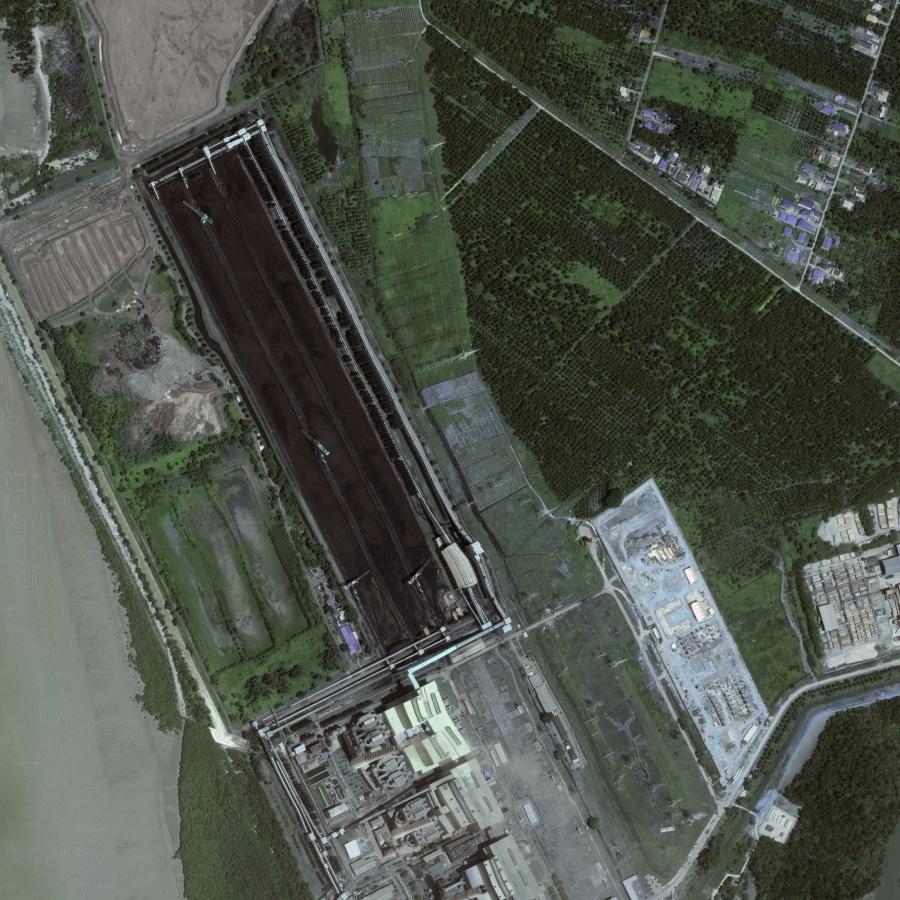PowerPlant: (157, 121, 480, 658)
